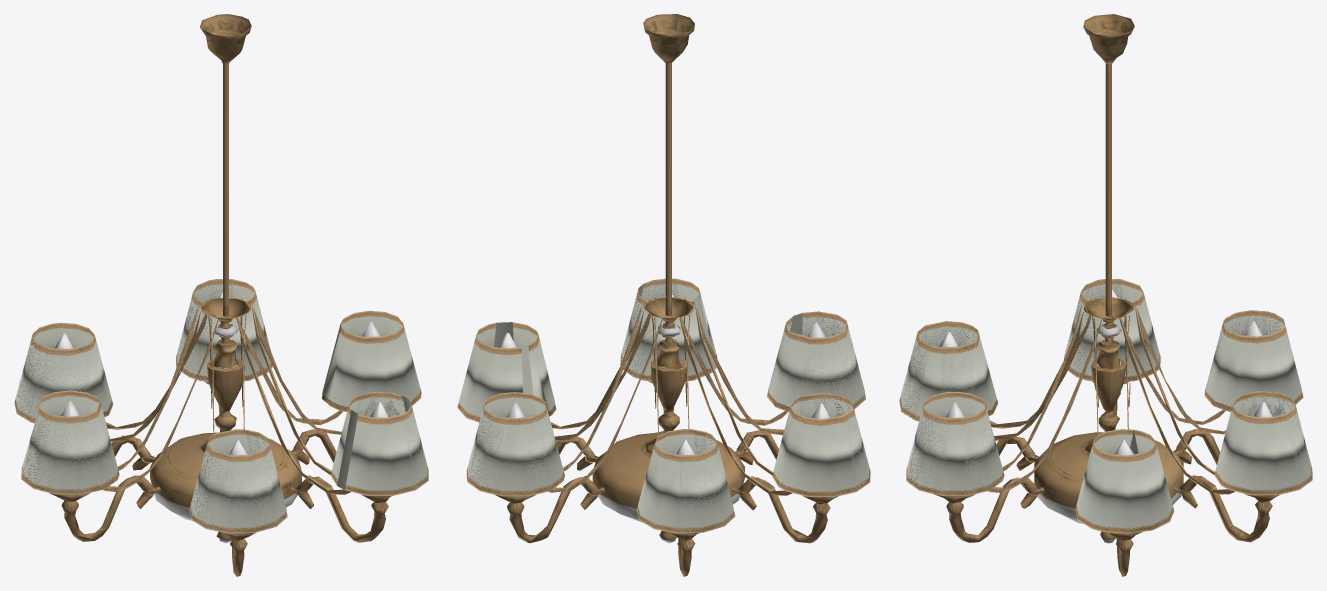
File: Chandelier_02.lite.glb
The picture shows the model from 3 angles, left to right: view 1: azimuth 30°, elevation 25°; view 2: azimuth 150°, elevation 25°; view 3: azimuth 270°, elevation 25°; orthographic projection.
Parts seen in each view (by area): view 1: Chandelier_02; view 2: Chandelier_02; view 3: Chandelier_02.
Boxes of the visible parts, x1=… form: Chandelier_02: x1=14, y1=14, x2=428, y2=576; Chandelier_02: x1=457, y1=14, x2=870, y2=576; Chandelier_02: x1=899, y1=14, x2=1312, y2=576.
Size of the model in its own units: 0.6734 by 0.8481 by 0.6123.
Materials: 2 (1 with a texture image).
